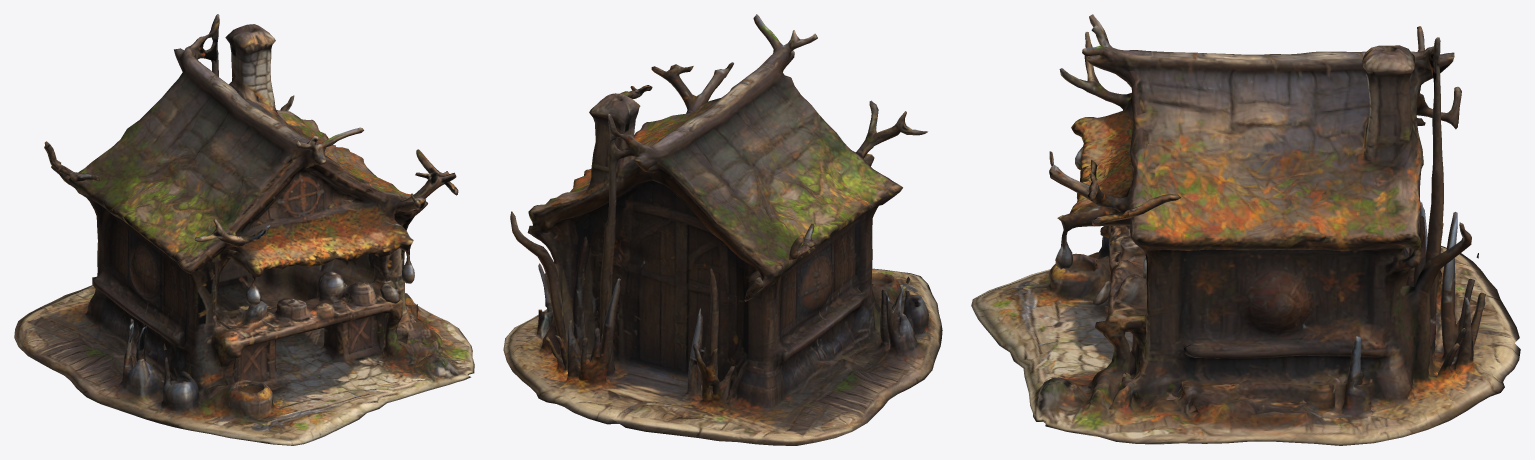
The model's file is shop.glb.
3 views of the same model, side by side, from view 1: azimuth 30°, elevation 25°; view 2: azimuth 150°, elevation 25°; view 3: azimuth 270°, elevation 25° (orthographic). The views are drawn at different scales.
Visible parts, largest first — view 1: Object_2; view 2: Object_2; view 3: Object_2.
Part boxes in pixels (bbox=[...]): Object_2: bbox=[14, 14, 474, 445]; Object_2: bbox=[503, 14, 942, 445]; Object_2: bbox=[971, 14, 1520, 445].
Bounding box in the file's own units: 1.82 × 1.33 × 2.
1 material, 1 textured.
